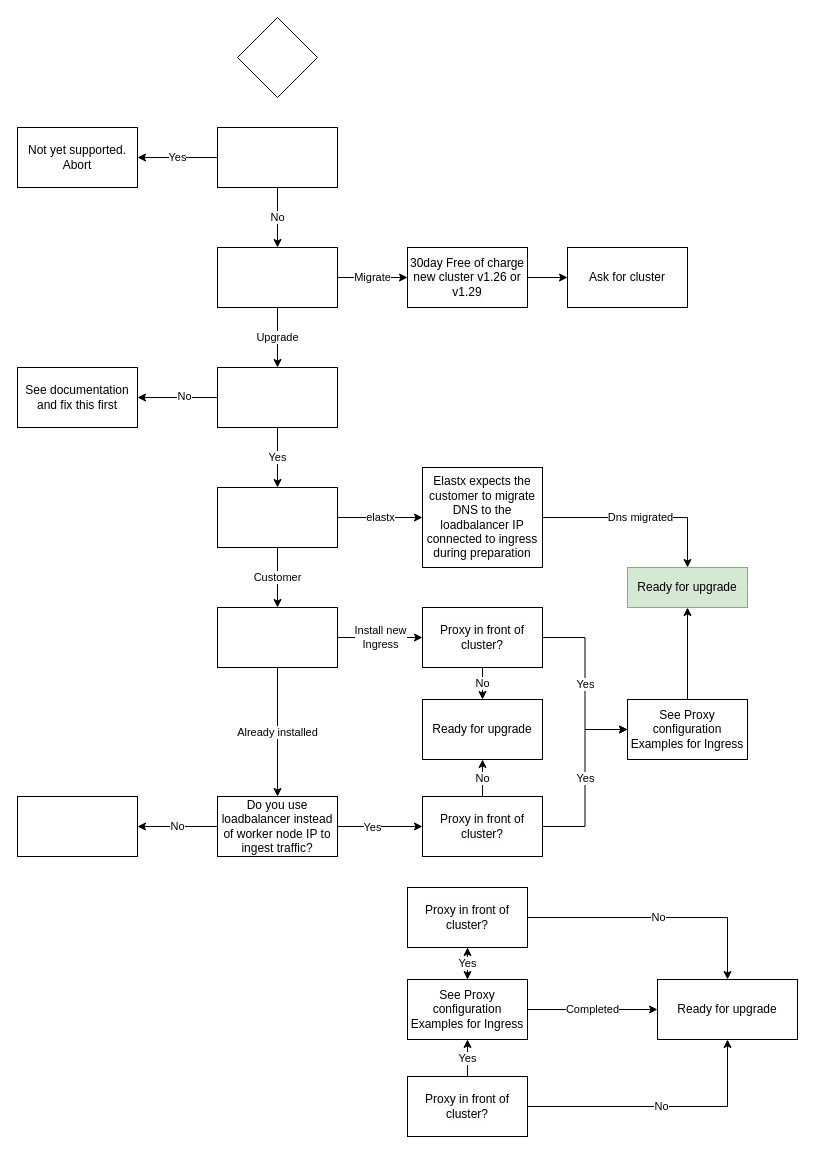
Image size: 815x1154. Some labels were removed from this diagram. The centre of each missing label's shape, as x and y in pixels:
"Adapted to the use of coredns instead of nodelocaldns?" belongs at point 277,397.
"Install/use your own Ingress" belongs at point 277,637.
"Maintainer of Ingress/Certmanager" belongs at point 277,517.
"Please move to loadbalancer" belongs at point 77,826.
"Require FIPS for predictable egress IP?" belongs at point 277,157.
"The way to 1.26" belongs at point 277,57.
"Upgrade or Migrate?" belongs at point 277,277.
